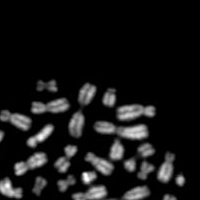chromosome: (69, 83, 96, 139), (94, 122, 147, 139), (94, 186, 150, 200), (14, 152, 47, 175), (84, 151, 113, 176), (54, 144, 80, 171), (26, 123, 54, 148), (116, 103, 156, 120), (0, 110, 31, 130), (32, 98, 69, 114), (157, 151, 174, 183), (71, 186, 106, 200), (0, 177, 22, 198), (57, 174, 76, 192), (137, 162, 154, 179), (33, 176, 47, 196), (110, 139, 123, 160), (102, 87, 115, 107), (137, 142, 154, 157), (37, 79, 56, 92), (82, 170, 97, 184), (123, 156, 136, 171), (176, 173, 186, 186), (0, 130, 3, 170), (155, 195, 176, 200)
